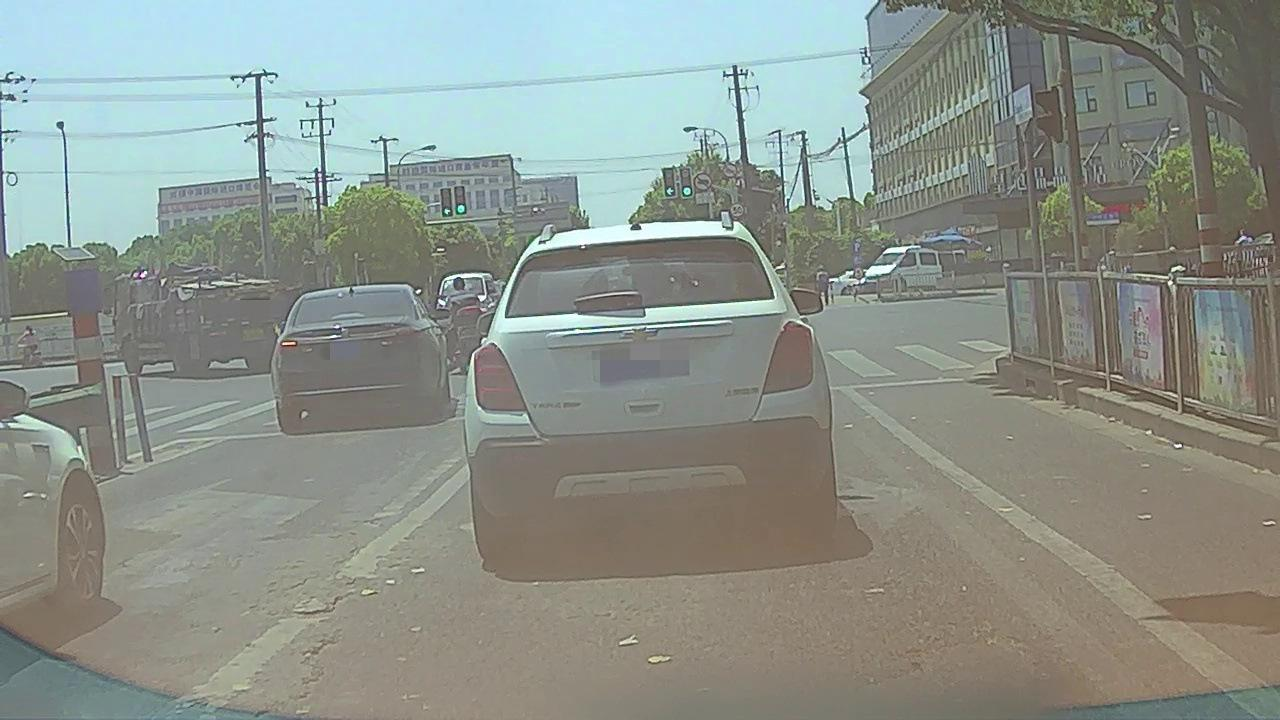traffic_light: (663, 167, 675, 196), (681, 168, 691, 197), (441, 189, 451, 215), (456, 187, 465, 213)
